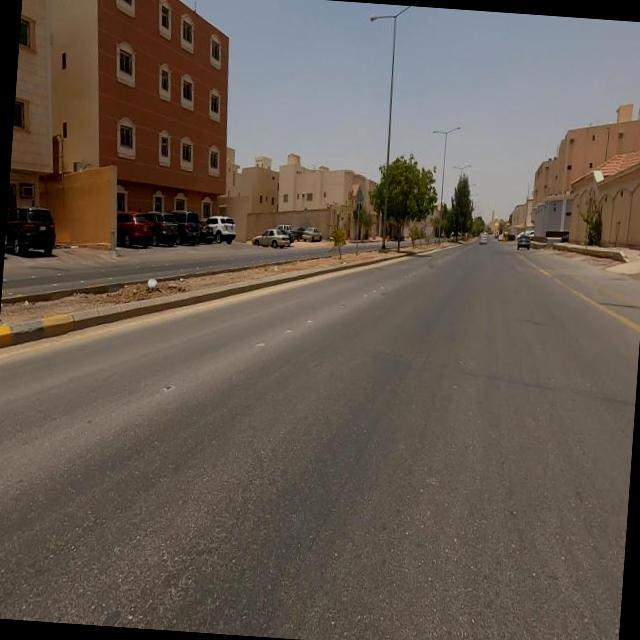debris: (128, 256, 180, 315)
